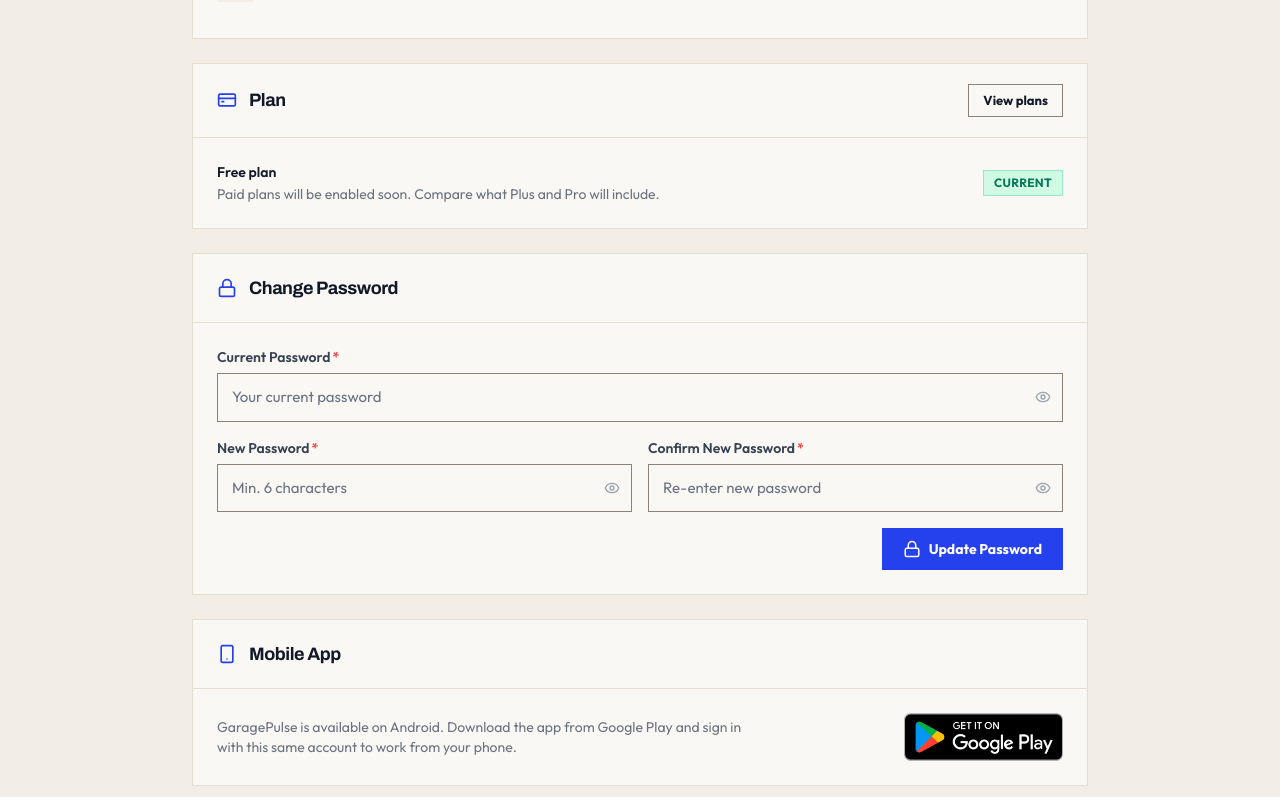
Test: Settings forms › change password › reports a mismatch on the confirm field, where the user is looking
This screenshot has width=1280, height=797.
(page scrolled)
Expected: the heading "Change Password" is shown, [249, 274, 398, 302]
Type "oldsecret" into the password field labelled "Current Password*". click: (640, 397)
box: [217, 373, 1063, 422]
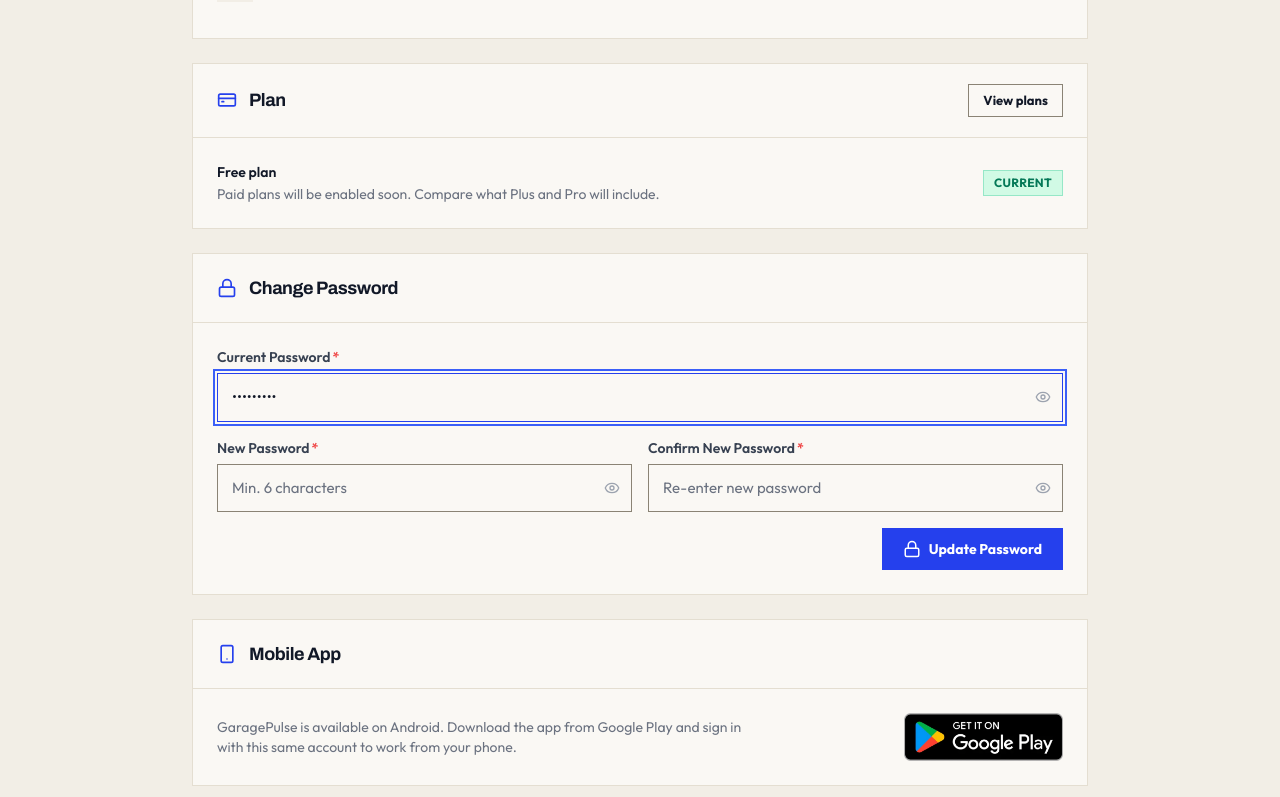
Type "newsecret" into the password field labelled "New Password*". click: (424, 488)
box: [217, 464, 632, 512]
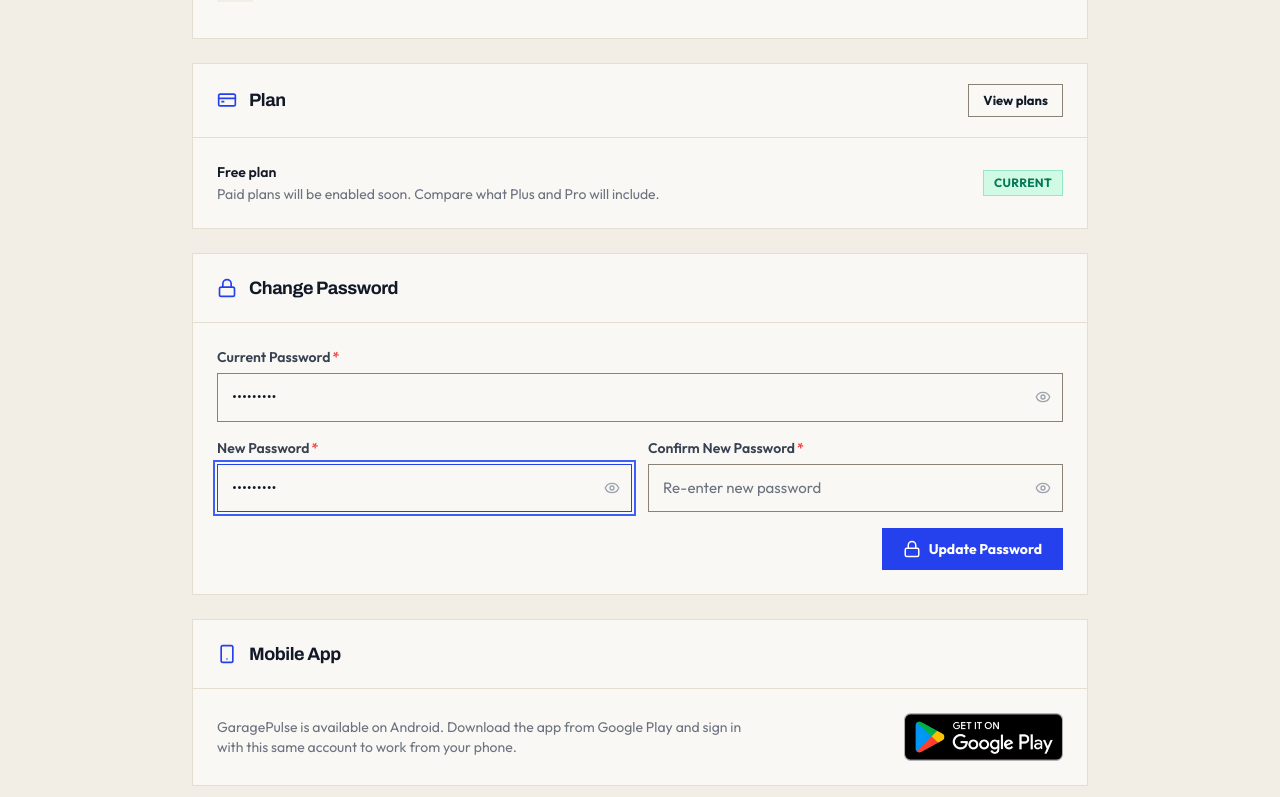
Type "newsecrat" into the password field labelled "Confirm New Password*". click: (856, 488)
box: [648, 464, 1063, 512]
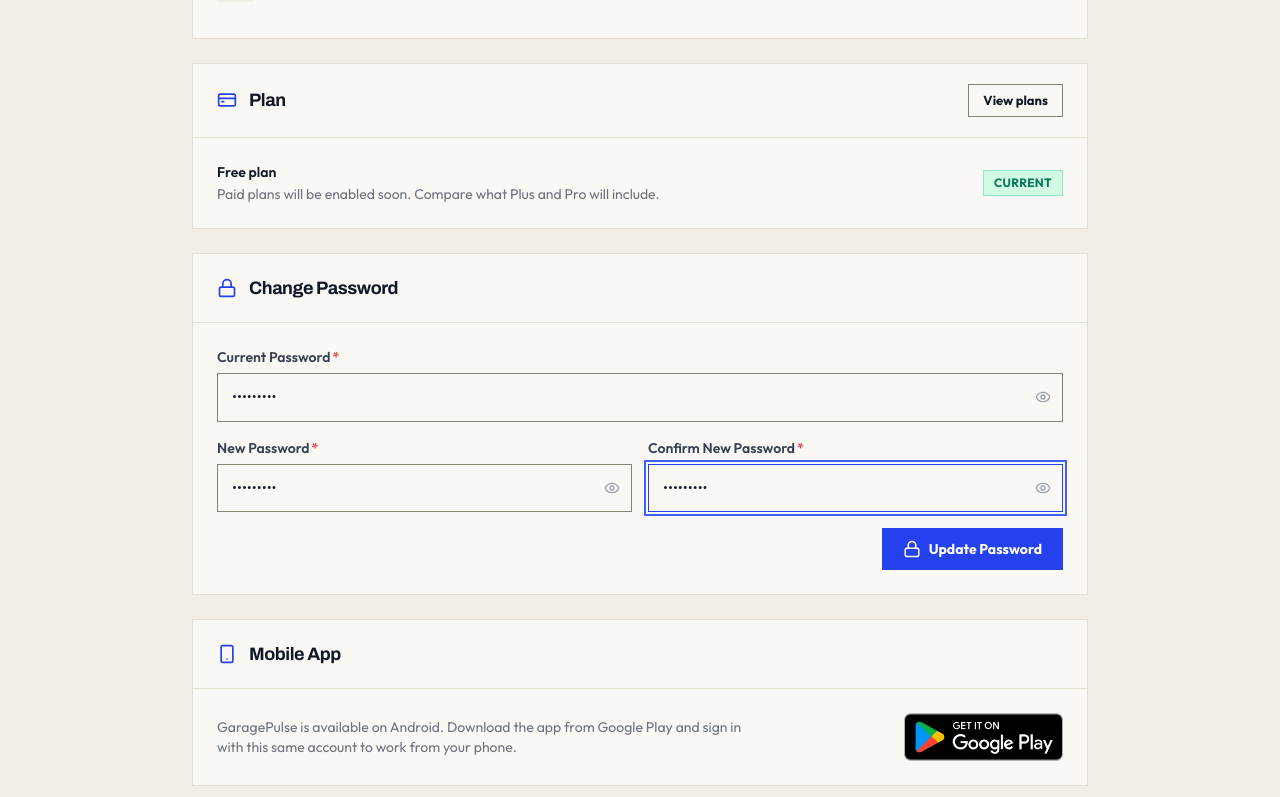
Click the button "Update Password". click: (972, 549)
box: [882, 528, 1063, 570]
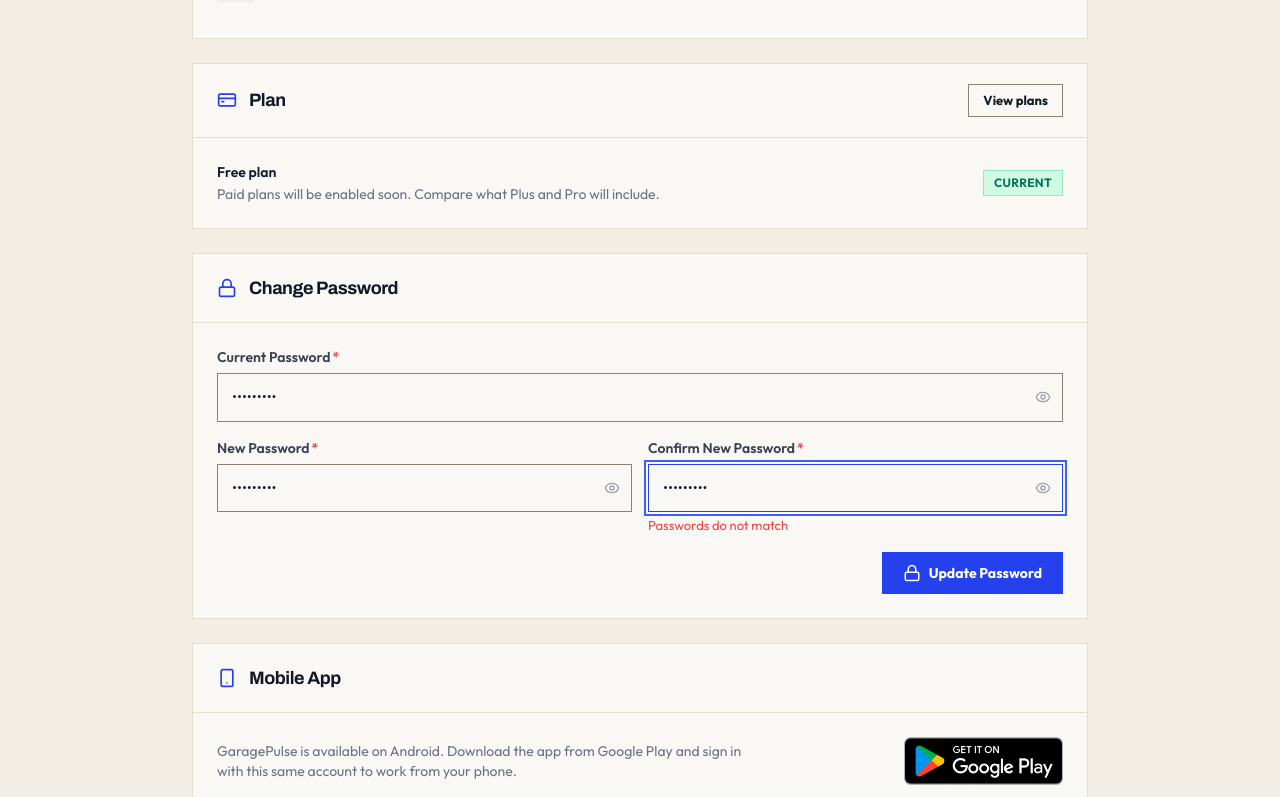
Now the text "Passwords do not match" is shown, box [648, 517, 788, 533]
